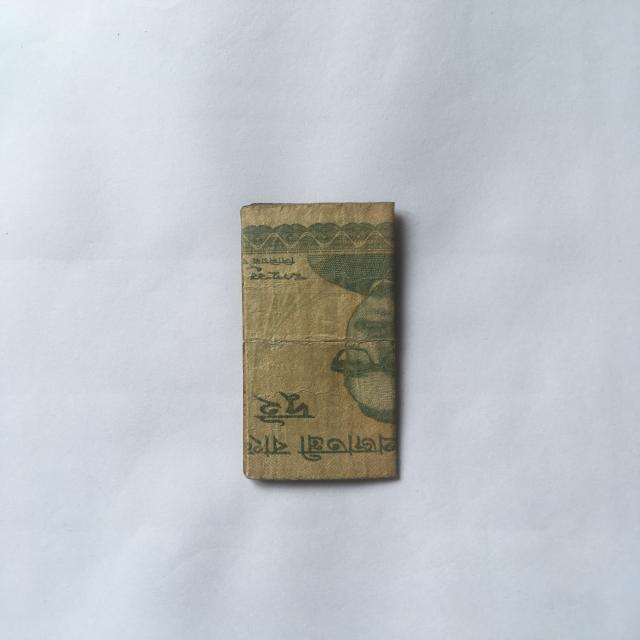Taka: (235, 197, 401, 478)
